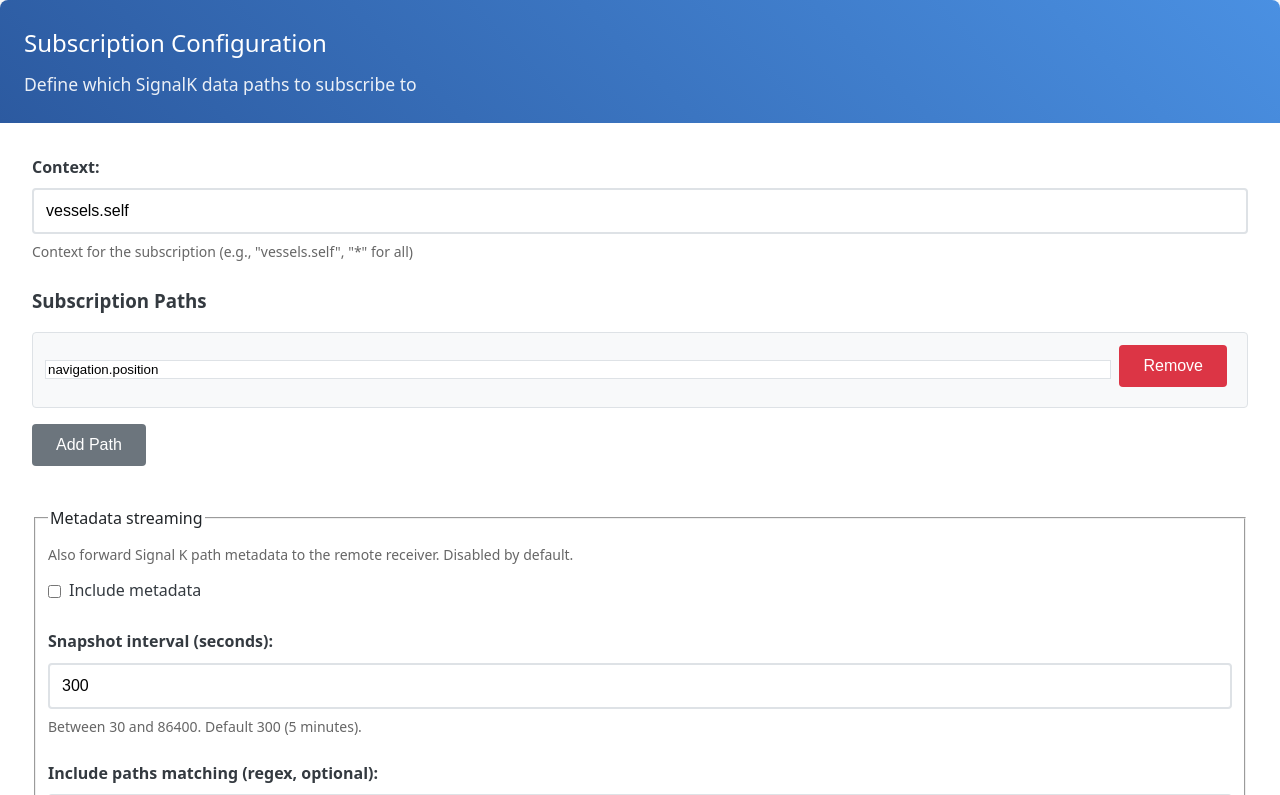
Test: SubscriptionCard › Add Path appends an empty path input
Click the button "Add Path".
click(89, 445)  # box [32,424,146,466]
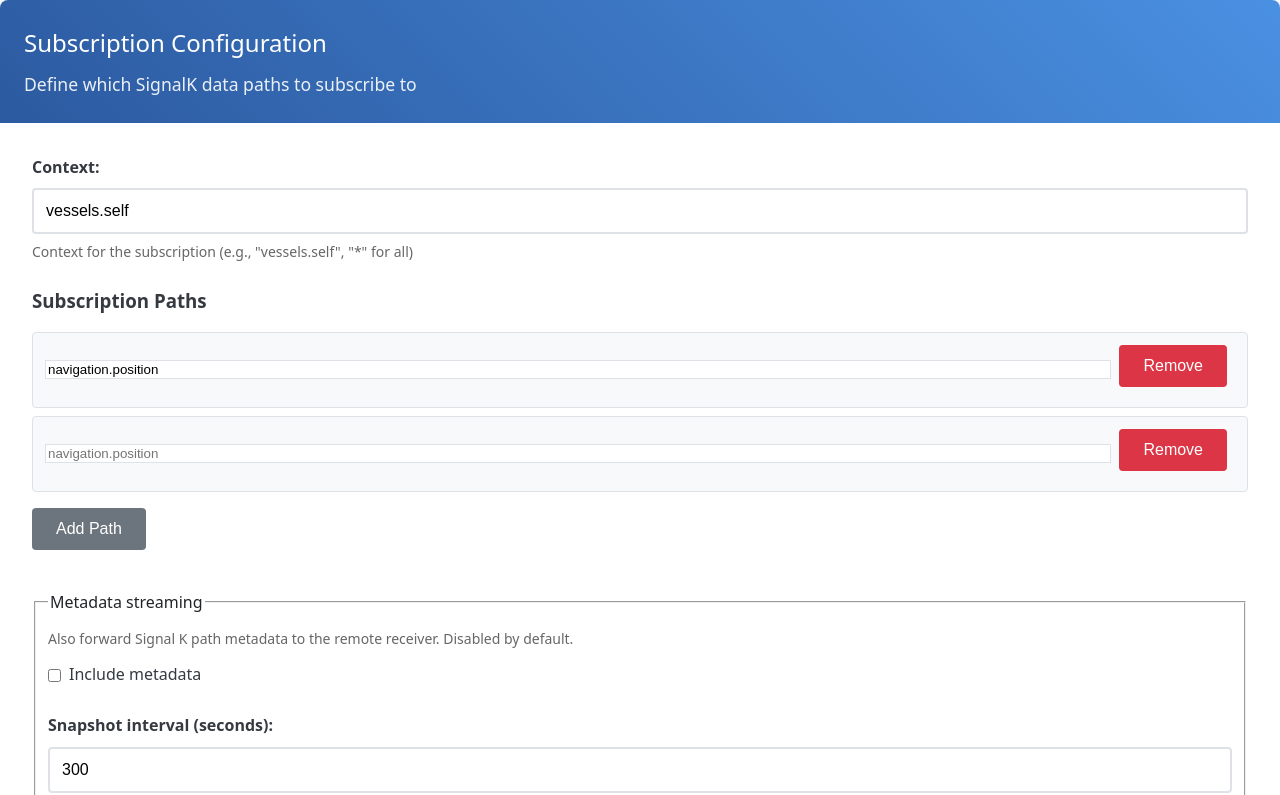
Expected: the number of fields with placeholder "navigation.position" is 2, [45,360,1111,379]; [45,444,1111,463]
